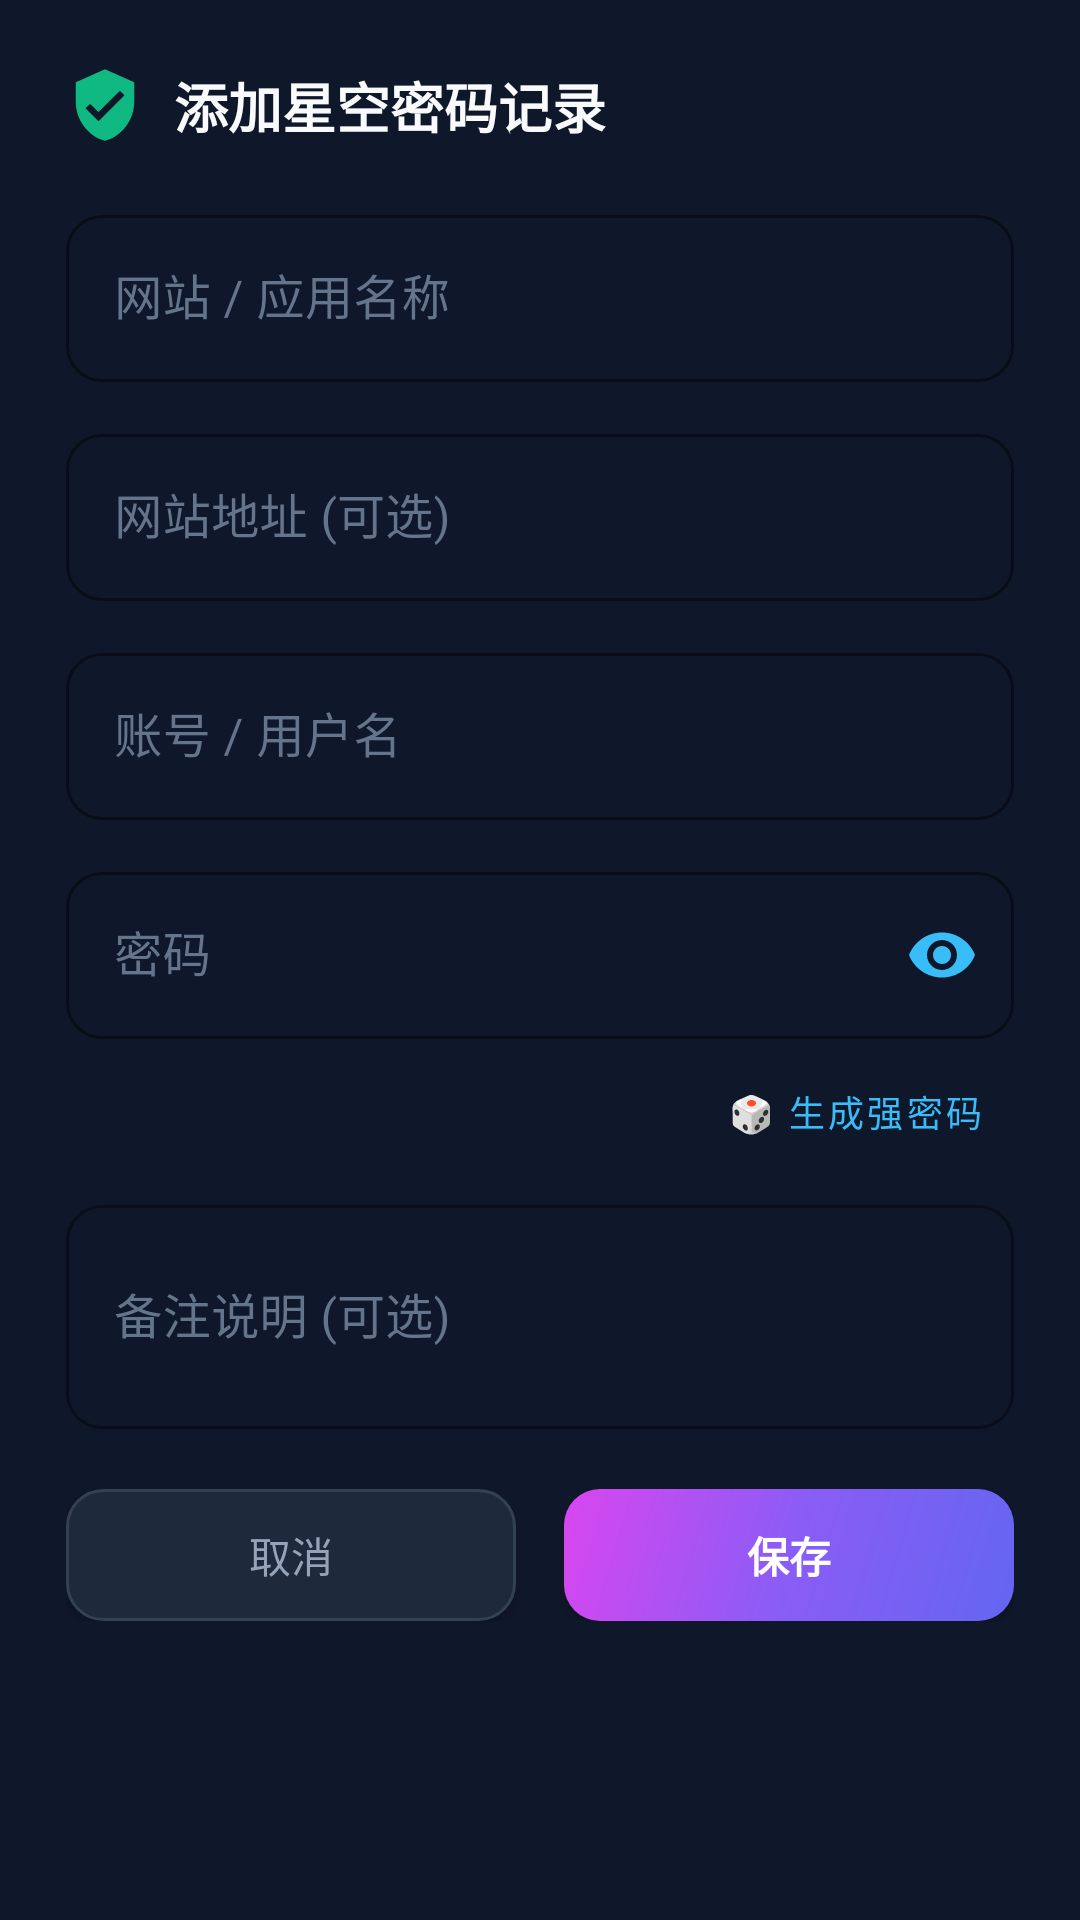

Point at icon controls on the screen. Image size 1080*1920, points as (x=x, y=y).
Dialog Icon: (x=105, y=105)
